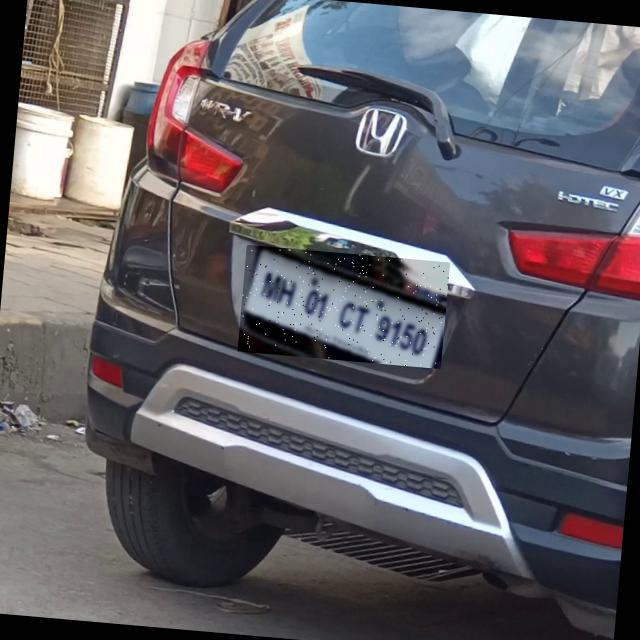Plate: (238, 246, 451, 370)
